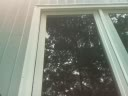window: (44, 15, 98, 95), (115, 13, 128, 28)
